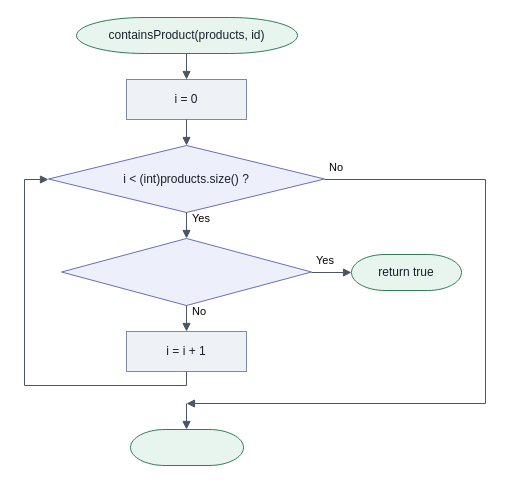
Image size: 511x483. Some labels were removed from this diagram. The shapes that lost their labels are listed below. From the top down, each one's centre as x and y in pixels, then its label:
At point 186,272: "products[i].id == id ?".
At point 187,447: "return false".
